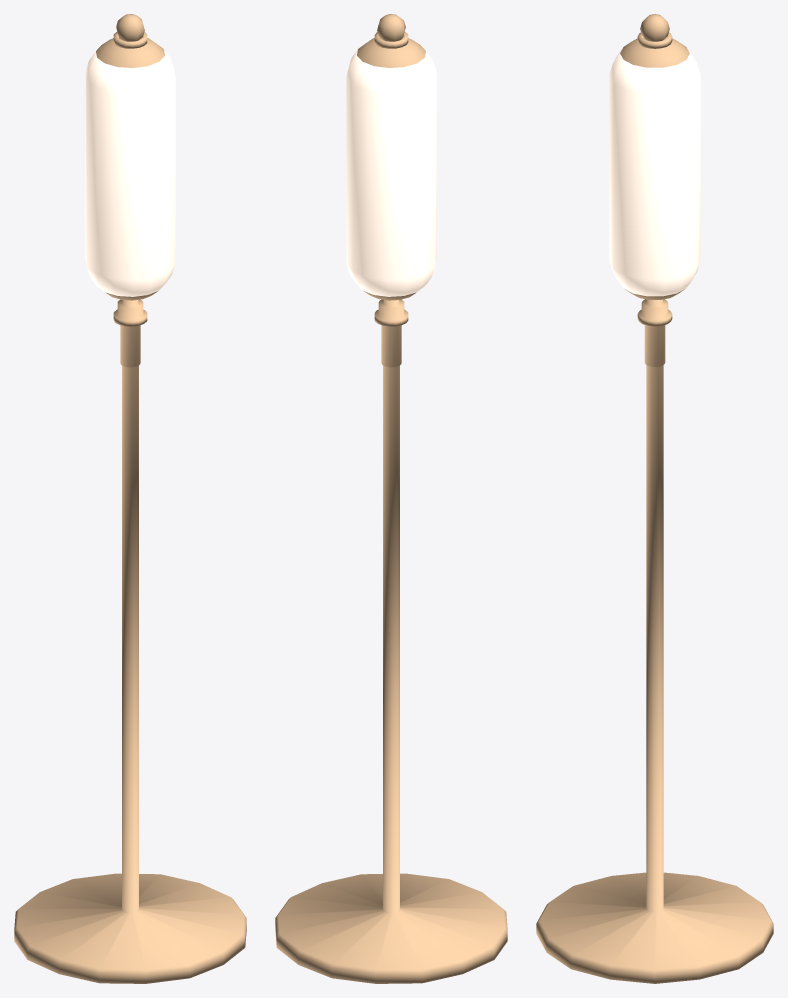
The model's file is Light_Fixture_03.glb.
The picture shows the model from 3 angles, left to right: view 1: azimuth 30°, elevation 25°; view 2: azimuth 150°, elevation 25°; view 3: azimuth 270°, elevation 25°; orthographic projection.
Parts seen in each view (by area): view 1: Sphere.007; view 2: Sphere.007; view 3: Sphere.007.
Boxes of the visible parts, x1,y1,x2,y2 form: Sphere.007: [14, 14, 246, 983]; Sphere.007: [275, 14, 507, 983]; Sphere.007: [536, 14, 773, 983].
Size of what is drawn, in the model's own units: 0.5 by 2.13 by 0.5.
